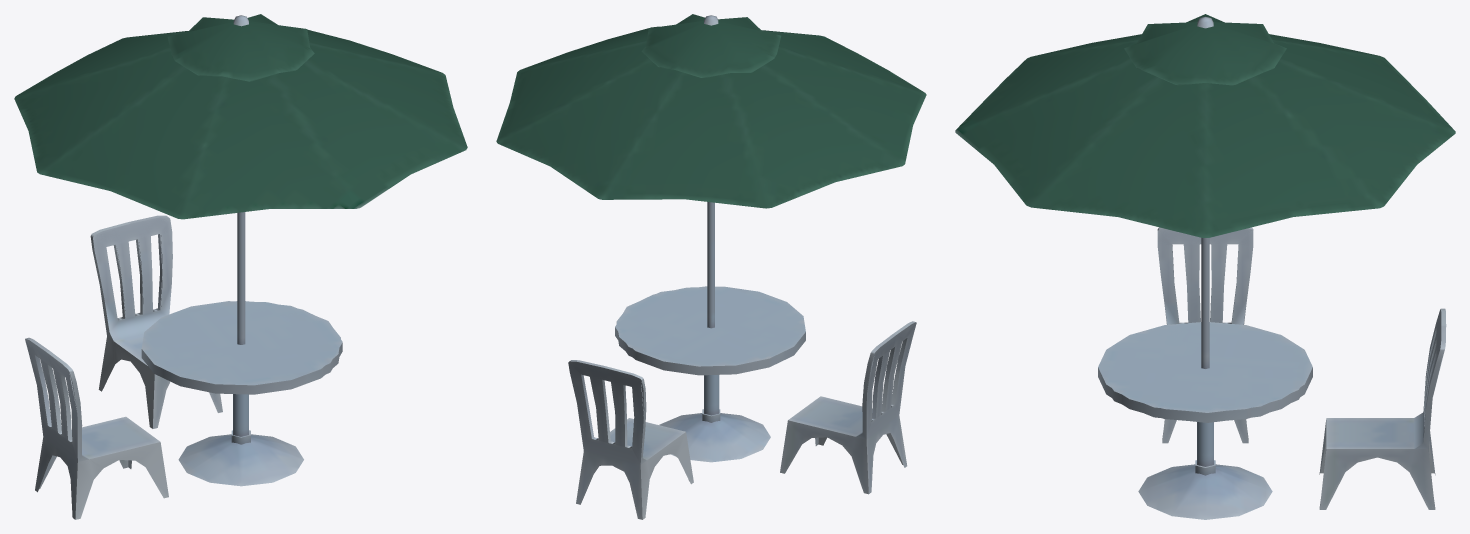
Rendered from objects_un_t03table01.gltf.
The picture shows the model from 3 angles, left to right: view 1: azimuth 30°, elevation 25°; view 2: azimuth 150°, elevation 25°; view 3: azimuth 270°, elevation 25°; orthographic projection. The views are drawn at different scales.
Parts seen in each view (by area): view 1: um_objects_un_t03table01_model_lod0Shape:objects_un_t03table (×2), um_objects_un_t03table01_model_lod1Shape:objects_un_t03table (×2), um_objects_un_t03table01_model_lod2Shape:objects_un_t03table (×2); view 2: um_objects_un_t03table01_model_lod0Shape:objects_un_t03table (×2), um_objects_un_t03table01_model_lod2Shape:objects_un_t03table (×2), um_objects_un_t03table01_model_lod1Shape:objects_un_t03table (×2); view 3: um_objects_un_t03table01_model_lod0Shape:objects_un_t03table (×2), um_objects_un_t03table01_model_lod1Shape:objects_un_t03table (×2), um_objects_un_t03table01_model_lod2Shape:objects_un_t03table (×2).
Boxes of the visible parts, left/top/right/bottom form: um_objects_un_t03table01_model_lod0Shape:objects_un_t03table (×2): left=14, top=15, right=467, bottom=519; um_objects_un_t03table01_model_lod1Shape:objects_un_t03table (×2): left=15, top=80, right=464, bottom=519; um_objects_un_t03table01_model_lod2Shape:objects_un_t03table (×2): left=25, top=14, right=314, bottom=461; um_objects_un_t03table01_model_lod0Shape:objects_un_t03table (×2): left=496, top=15, right=926, bottom=519; um_objects_un_t03table01_model_lod2Shape:objects_un_t03table (×2): left=569, top=14, right=916, bottom=464; um_objects_un_t03table01_model_lod1Shape:objects_un_t03table (×2): left=501, top=78, right=925, bottom=519; um_objects_un_t03table01_model_lod0Shape:objects_un_t03table (×2): left=955, top=14, right=1455, bottom=509; um_objects_un_t03table01_model_lod1Shape:objects_un_t03table (×2): left=956, top=133, right=1453, bottom=519; um_objects_un_t03table01_model_lod2Shape:objects_un_t03table (×2): left=1124, top=14, right=1443, bottom=425.
Size of the model in its own units: 2.73 by 2.86 by 2.73.
2 materials, 2 textured.
